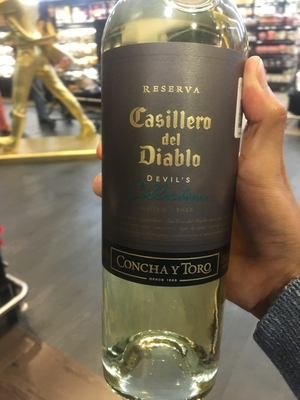casillero del diablo devils collection verde: (79, 3, 253, 367)
